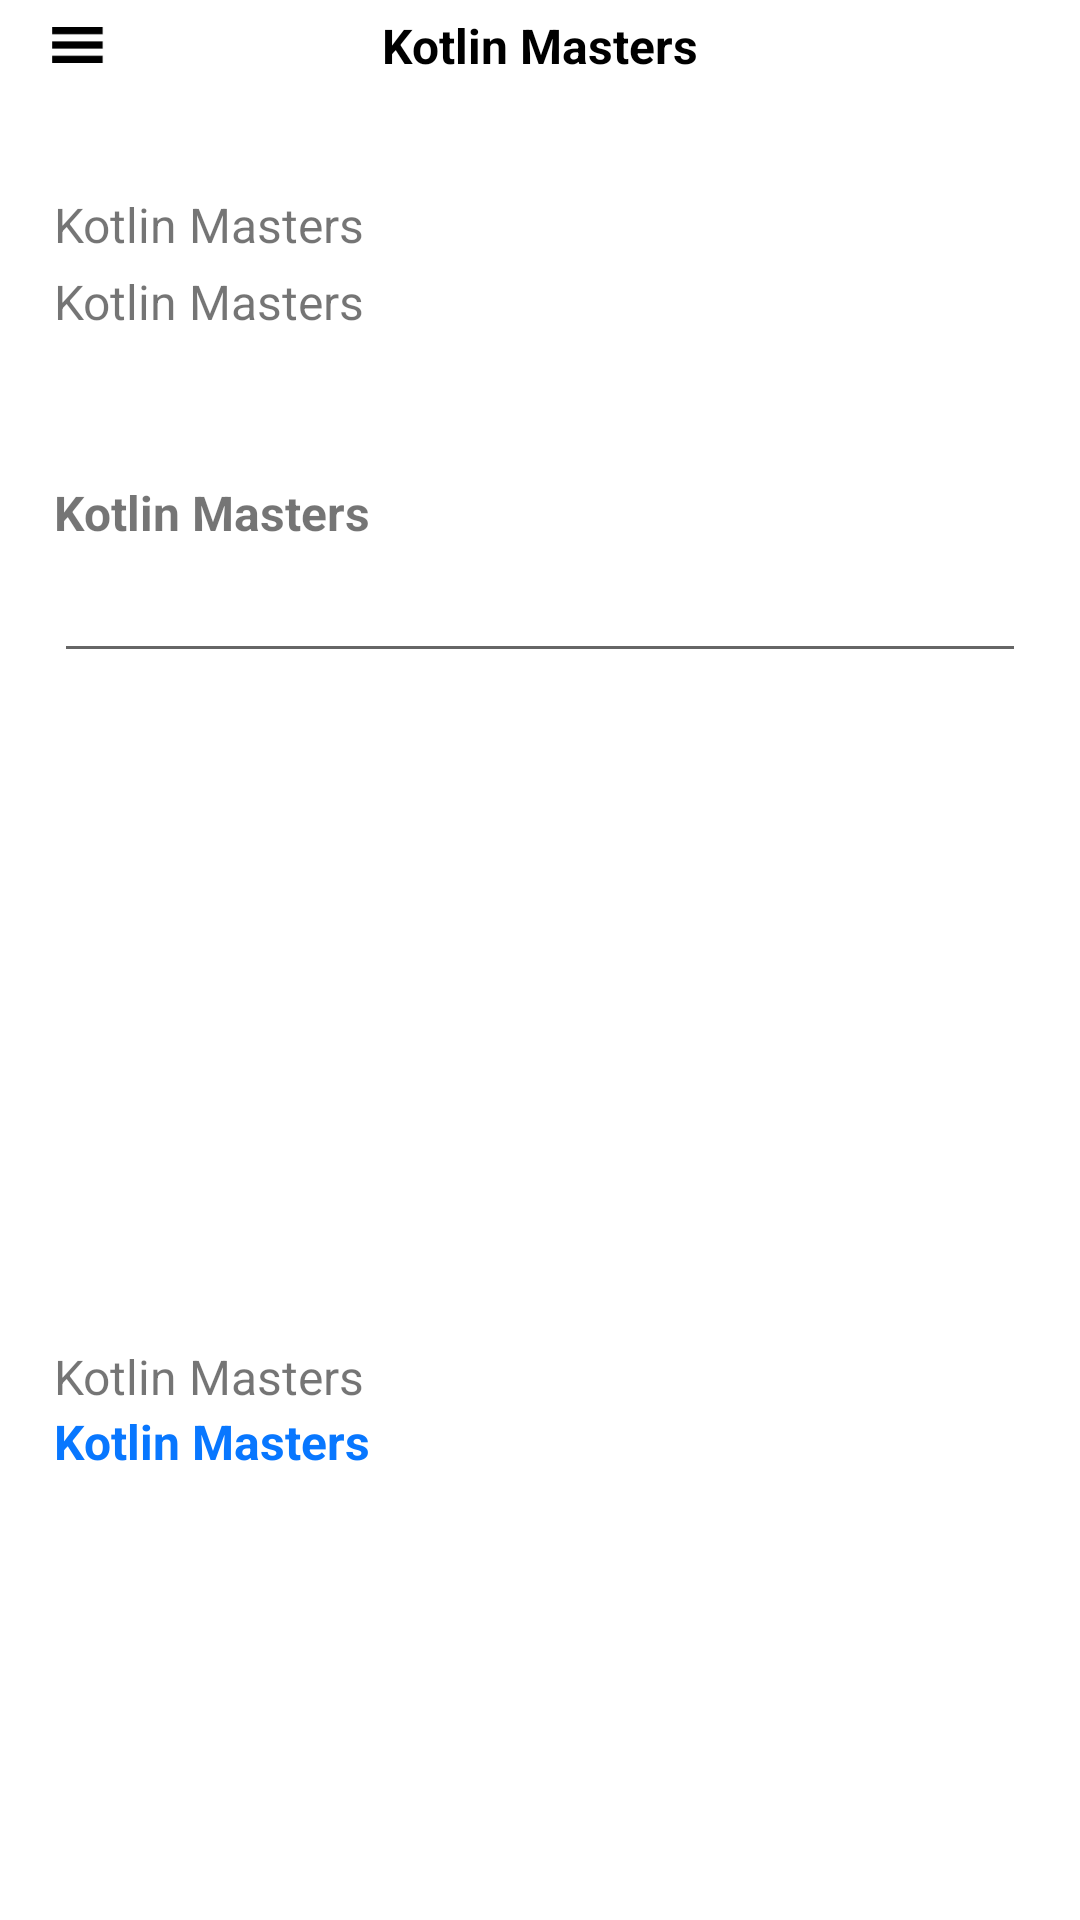

Where to tap for icons on this 1080px x 1920px app screen, as (x,y):
menu: (77,45)
